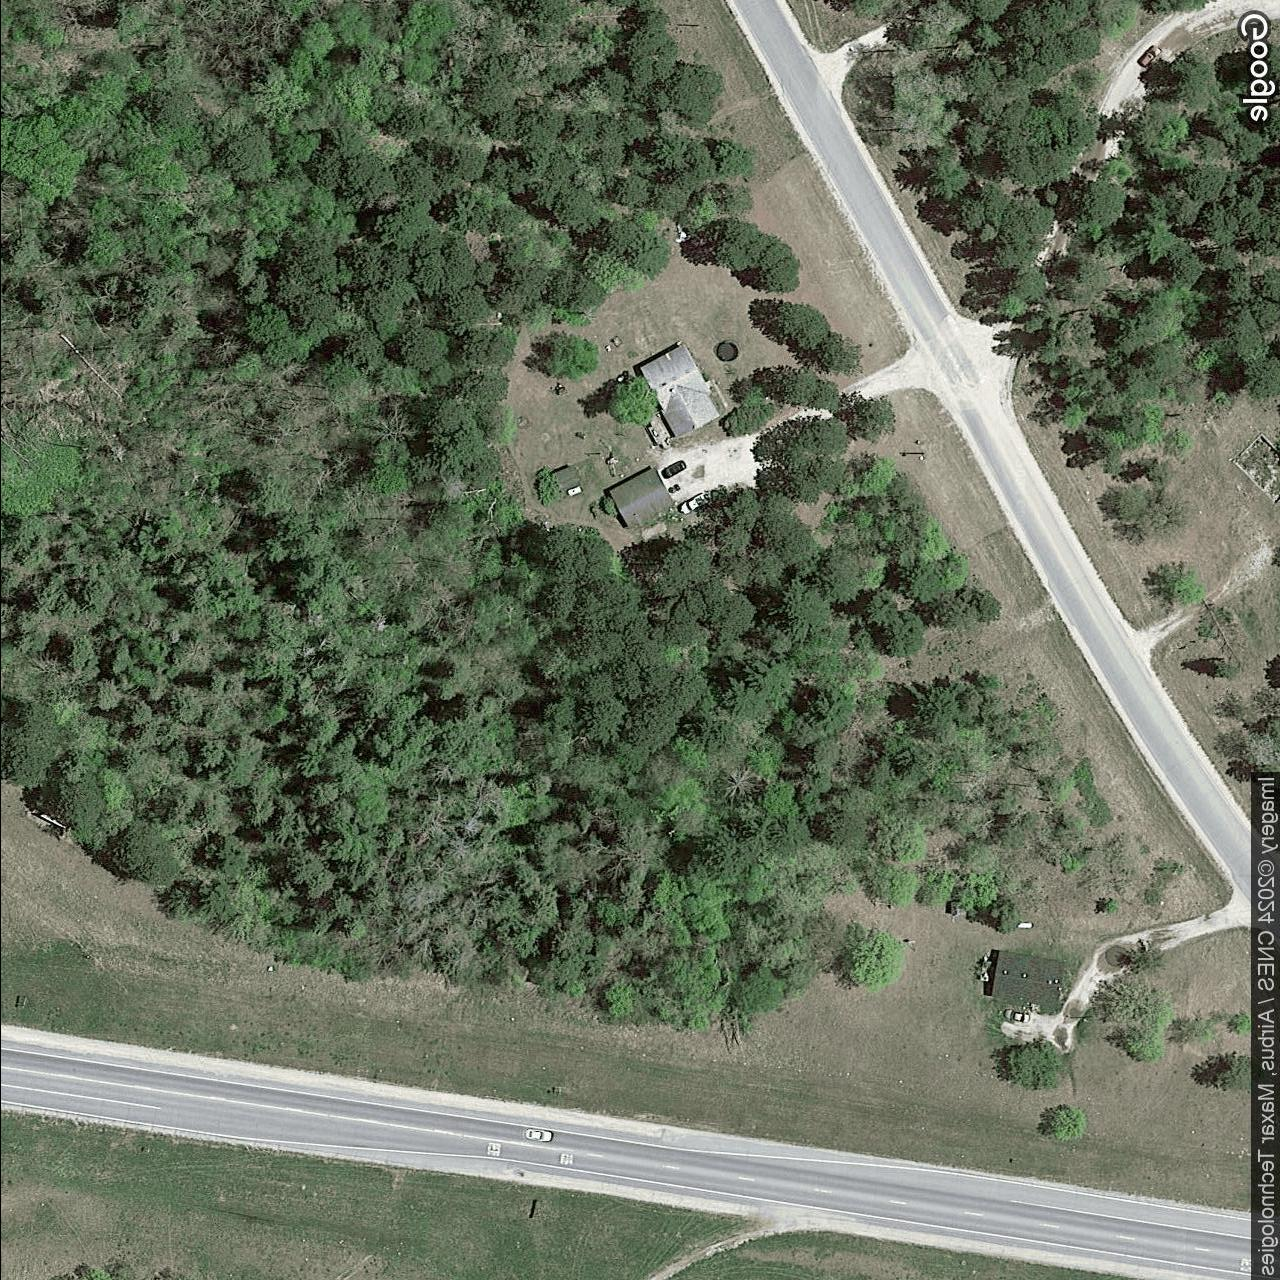Garage: (606, 464, 675, 530)
House: (638, 341, 721, 440), (990, 949, 1065, 1009)
Propane: (564, 485, 584, 498), (1014, 921, 1034, 930)
